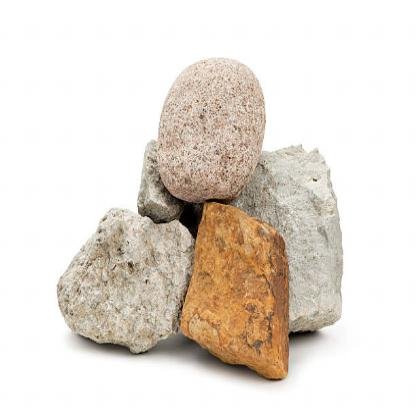Sedimentary_Limestone: (182, 206, 300, 397)
